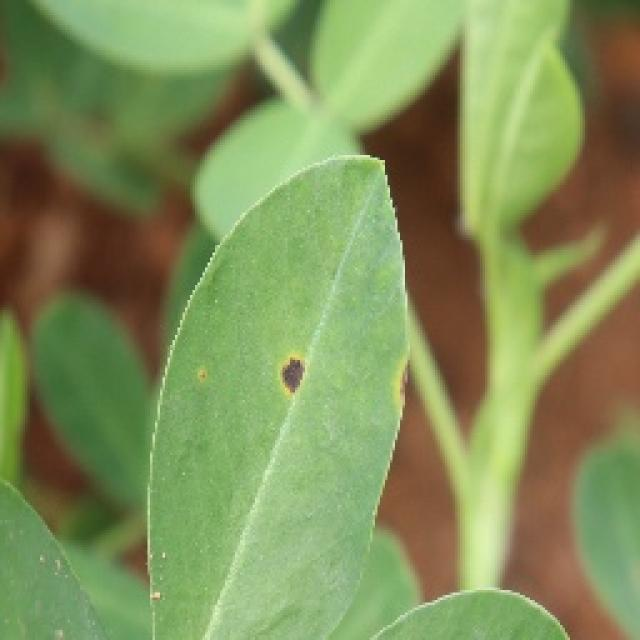Early_leaf_spot: (254, 324, 322, 412), (371, 336, 423, 450), (190, 356, 213, 394)
